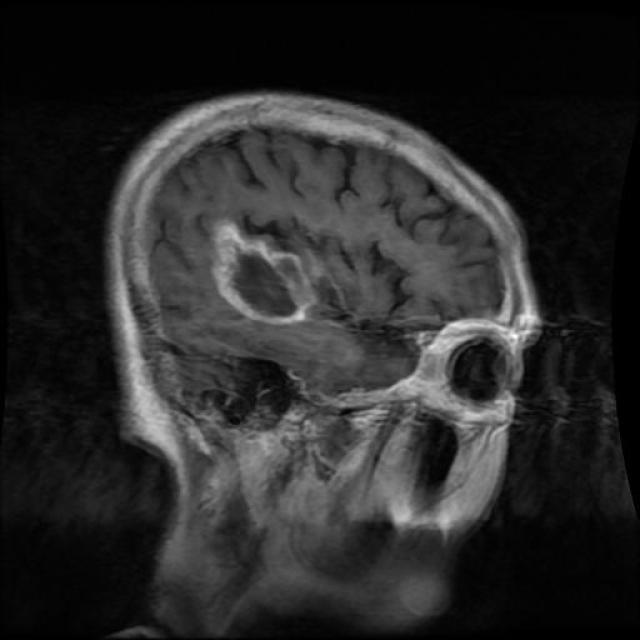glioma: (210, 220, 329, 328)
